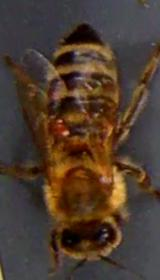varroa_mite: (42, 114, 72, 142)
